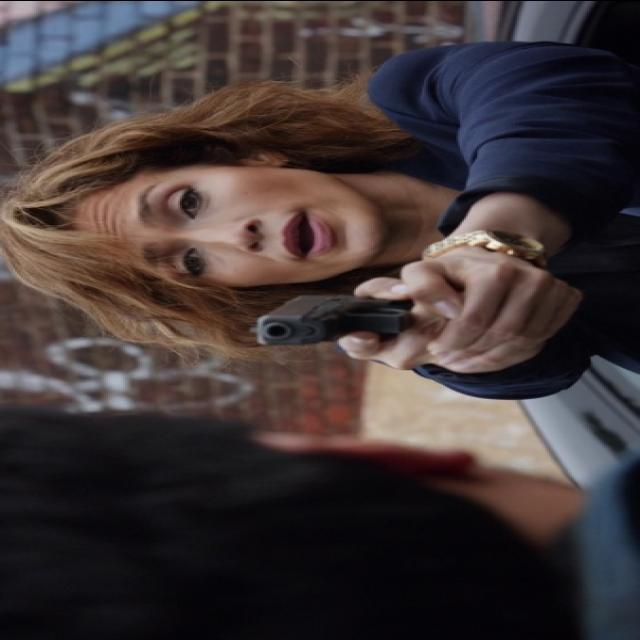weapons: (220, 263, 500, 369)
